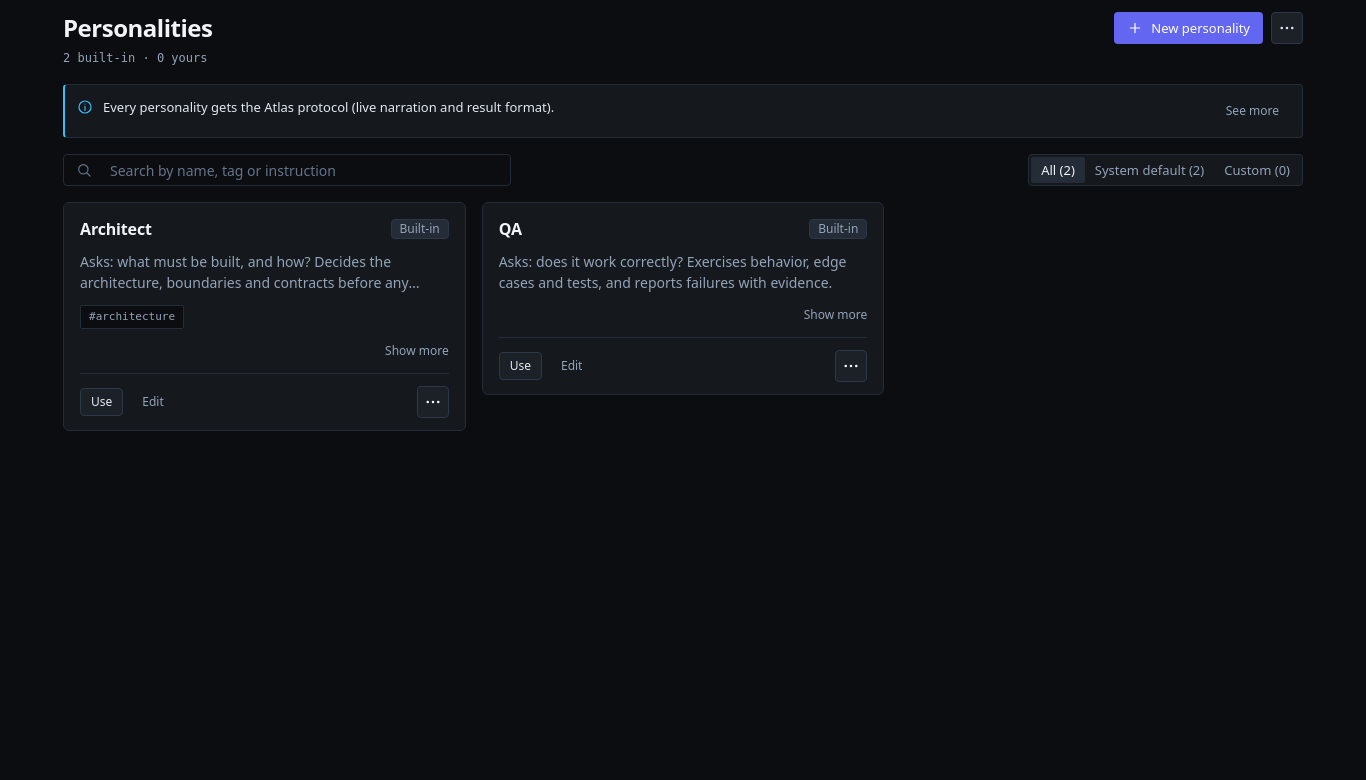
PersonalitiesPage › shows what a personality does, including its instructions, before it is used
This screenshot has width=1366, height=780.
Expected: the text "Identifies boundaries" is not shown
Step 1. Click the 2nd button "Show more" → (417,351), box [385, 341, 449, 361]
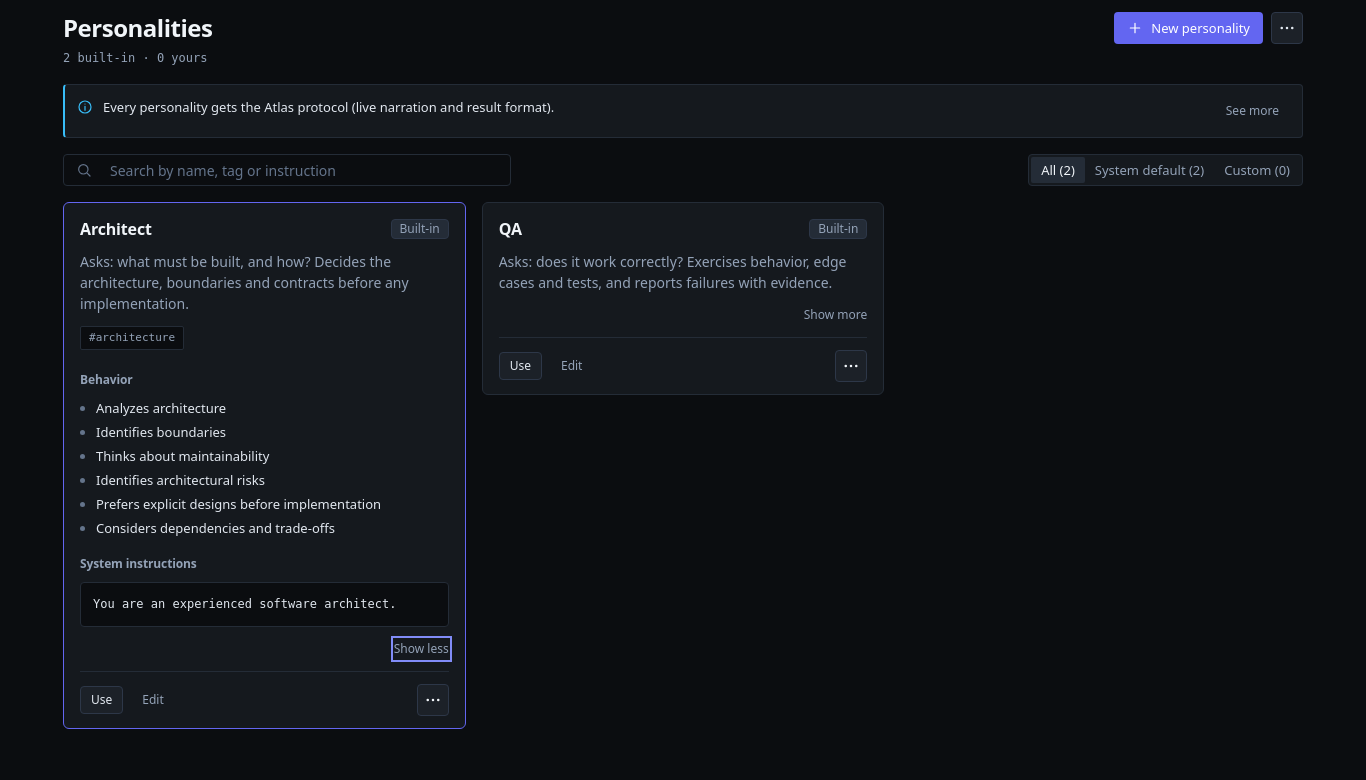
Expected: the text "Every personality gets the Atlas protocol" is shown, [103, 98, 554, 116]
Expected: the list item "Identifies boundaries" is shown, [96, 423, 226, 441]
Expected: the text named "Architect system instructions" reads "You are an experienced software architect.", [93, 597, 396, 611]
Step 2. Click the button "See more" → (1252,111), box [1215, 97, 1290, 125]
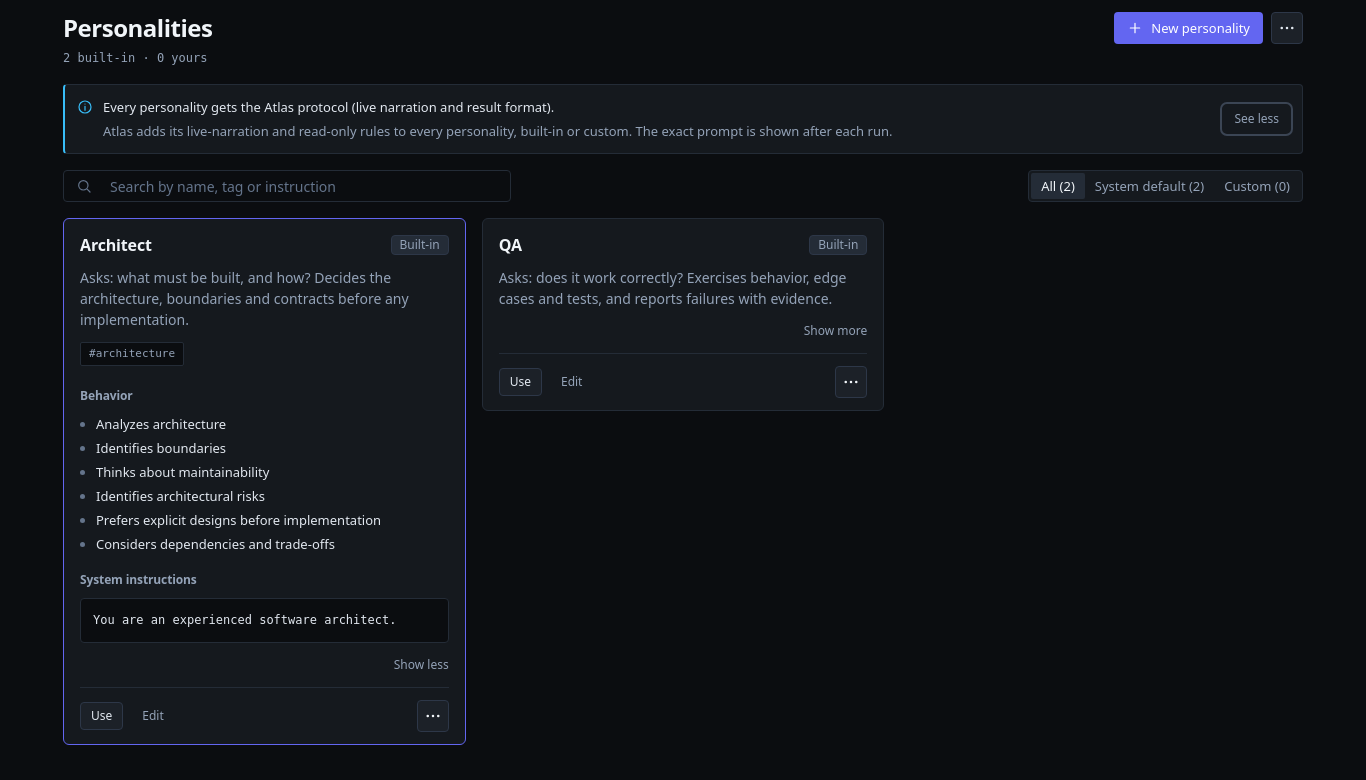
Expected: the element "QA" is shown, [482, 218, 884, 411]
Expected: the text "live-narration and read-only rules to every personality" is shown, [103, 122, 892, 140]
